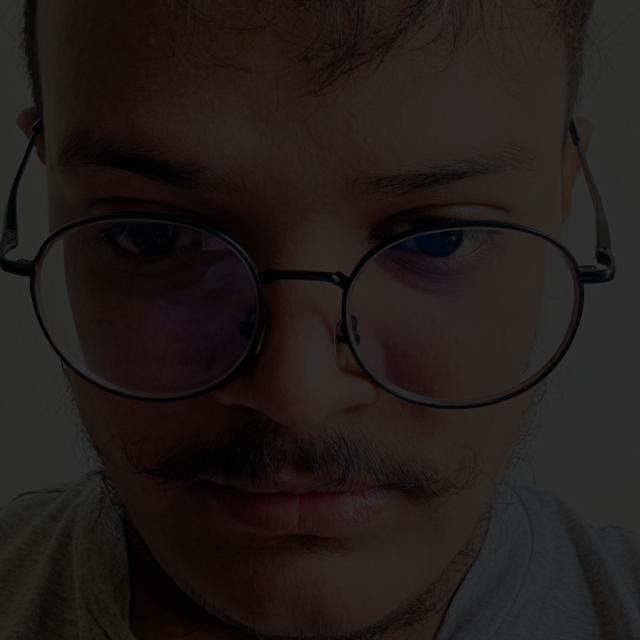Natural: (32, 90, 632, 577)
